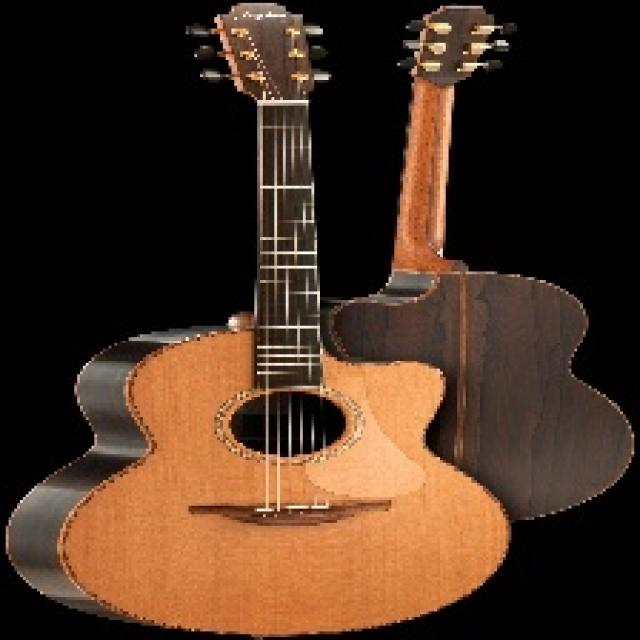guitar: (5, 2, 511, 638), (325, 6, 633, 522)
